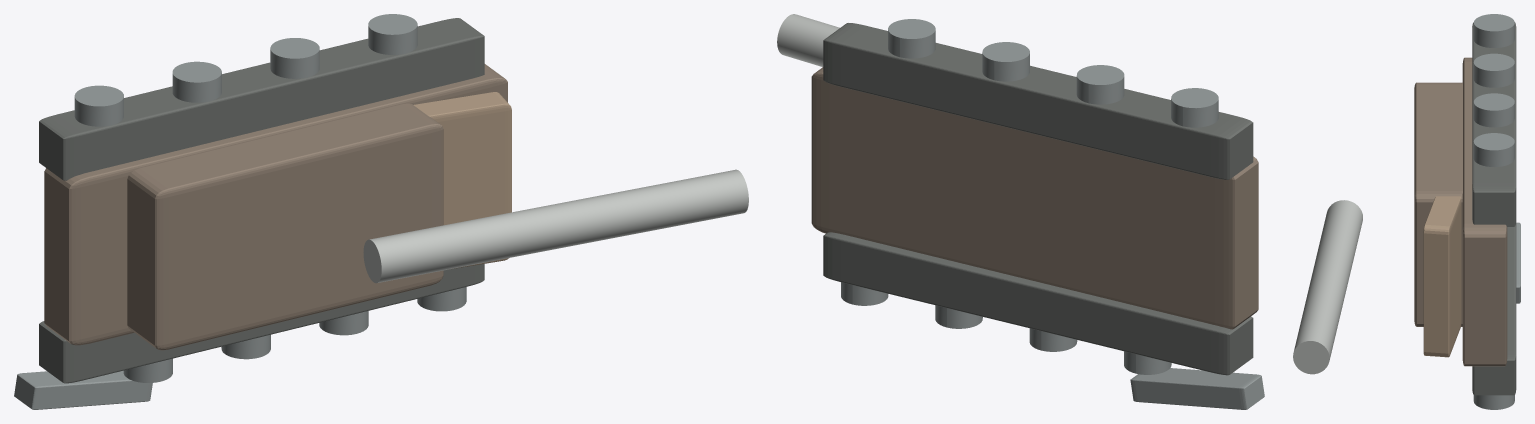
Rendered from d-u16-dominion-self-propelled-howitzer-lod2.glb.
3 views of the same model, side by side, from view 1: azimuth 30°, elevation 25°; view 2: azimuth 150°, elevation 25°; view 3: azimuth 270°, elevation 25° (orthographic). The views are drawn at different scales.
Visible parts, largest first — view 1: upper_hull, chassis_track_1, chassis_lower, howitzer_barrel_0, chassis_glacis, chassis_track_-1, stabilizer_-1, chassis_roadwheel_1_0, chassis_roadwheel_1_2, chassis_roadwheel_1_6, chassis_roadwheel_1_4, chassis_roadwheel_-1_7 (+3 smaller); view 2: chassis_lower, chassis_track_1, chassis_track_-1, stabilizer_-1, howitzer_barrel_0, chassis_roadwheel_1_2, chassis_roadwheel_1_6, chassis_roadwheel_1_0, chassis_roadwheel_1_4, chassis_roadwheel_-1_3, chassis_roadwheel_-1_5, chassis_roadwheel_-1_7 (+1 smaller); view 3: chassis_lower, upper_hull, howitzer_barrel_0, chassis_glacis, chassis_track_1, chassis_track_-1, chassis_roadwheel_1_4, chassis_roadwheel_1_2, chassis_roadwheel_1_6, chassis_roadwheel_1_0, chassis_roadwheel_-1_7, stabilizer_-1.
Boxes of the visible parts, left/top/right/bottom form: upper_hull: left=127, top=103, right=443, bottom=350; chassis_track_1: left=39, top=18, right=484, bottom=180; chassis_lower: left=44, top=64, right=507, bottom=345; howitzer_barrel_0: left=363, top=169, right=748, bottom=283; chassis_glacis: left=413, top=92, right=511, bottom=268; chassis_track_-1: left=39, top=264, right=484, bottom=383; stabilizer_-1: left=14, top=370, right=152, bottom=409; chassis_roadwheel_1_0: left=74, top=85, right=123, bottom=126; chassis_roadwheel_1_2: left=172, top=61, right=221, bottom=102; chassis_roadwheel_1_6: left=368, top=14, right=417, bottom=54; chassis_roadwheel_1_4: left=270, top=38, right=319, bottom=78; chassis_roadwheel_-1_7: left=417, top=287, right=466, bottom=311; chassis_lower: left=811, top=67, right=1258, bottom=329; chassis_track_1: left=823, top=23, right=1253, bottom=179; chassis_track_-1: left=823, top=232, right=1253, bottom=375; stabilizer_-1: left=1130, top=368, right=1264, bottom=409; howitzer_barrel_0: left=777, top=14, right=839, bottom=66; chassis_roadwheel_1_2: left=1076, top=65, right=1124, bottom=104; chassis_roadwheel_1_6: left=888, top=19, right=935, bottom=58; chassis_roadwheel_1_0: left=1171, top=88, right=1218, bottom=127; chassis_roadwheel_1_4: left=982, top=42, right=1029, bottom=81; chassis_roadwheel_-1_3: left=1029, top=328, right=1077, bottom=351; chassis_roadwheel_-1_5: left=935, top=305, right=982, bottom=328; chassis_roadwheel_-1_7: left=841, top=282, right=888, bottom=305; chassis_lower: left=1462, top=57, right=1507, bottom=366; upper_hull: left=1414, top=82, right=1462, bottom=326; howitzer_barrel_0: left=1293, top=200, right=1362, bottom=374; chassis_glacis: left=1423, top=196, right=1461, bottom=357; chassis_track_1: left=1472, top=22, right=1516, bottom=226; chassis_track_-1: left=1472, top=222, right=1516, bottom=395; chassis_roadwheel_1_4: left=1473, top=93, right=1514, bottom=127; chassis_roadwheel_1_2: left=1473, top=53, right=1514, bottom=87; chassis_roadwheel_1_6: left=1473, top=133, right=1514, bottom=167; chassis_roadwheel_1_0: left=1473, top=14, right=1514, bottom=47; chassis_roadwheel_-1_7: left=1473, top=395, right=1514, bottom=409; stabilizer_-1: left=1516, top=222, right=1520, bottom=303.
Size of what is drawn, in the model's own units: 9.94 by 4.96 by 3.92.
